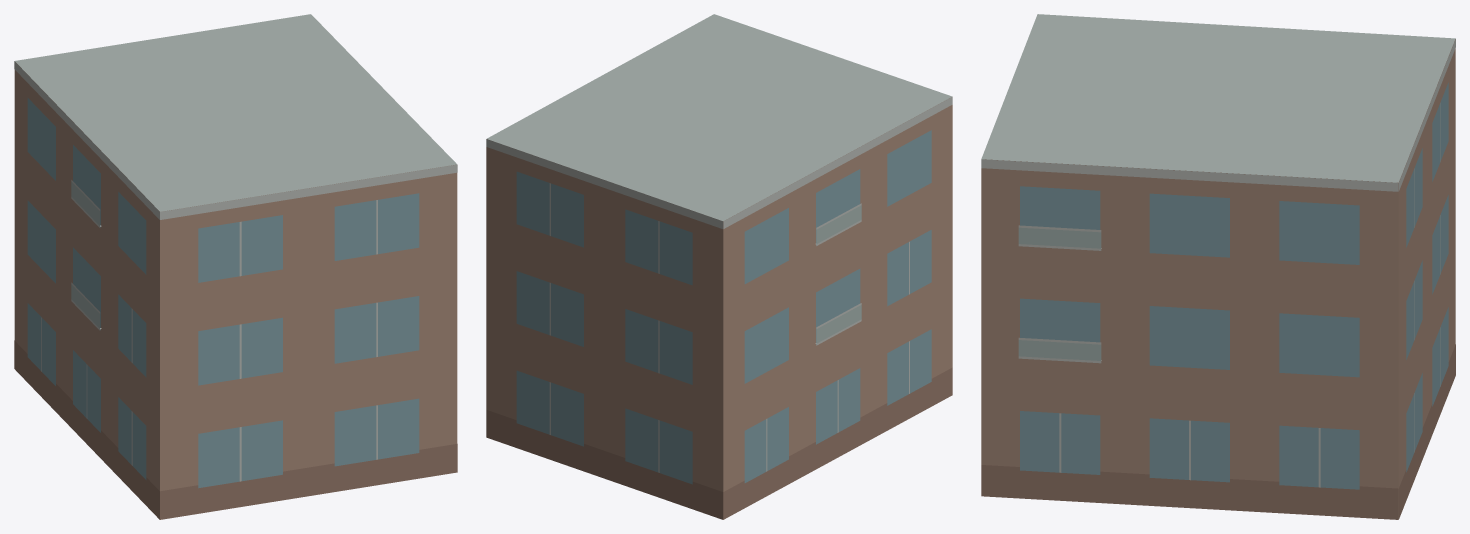
File: survey-upis-32979219.glb
3 views of the same model, side by side, from view 1: azimuth 30°, elevation 25°; view 2: azimuth 150°, elevation 25°; view 3: azimuth 270°, elevation 25° (orthographic). The views are drawn at different scales.
Visible parts, largest first — view 1: survey-upis-32979219.tmp; view 2: survey-upis-32979219.tmp; view 3: survey-upis-32979219.tmp.
Part boxes in pixels (box(x1,y1,x2,y2)): survey-upis-32979219.tmp: box(14, 14, 457, 519); survey-upis-32979219.tmp: box(486, 14, 952, 519); survey-upis-32979219.tmp: box(981, 14, 1455, 519).
Bounding box in the file's own units: 9.78 × 9.1 × 11.62.
